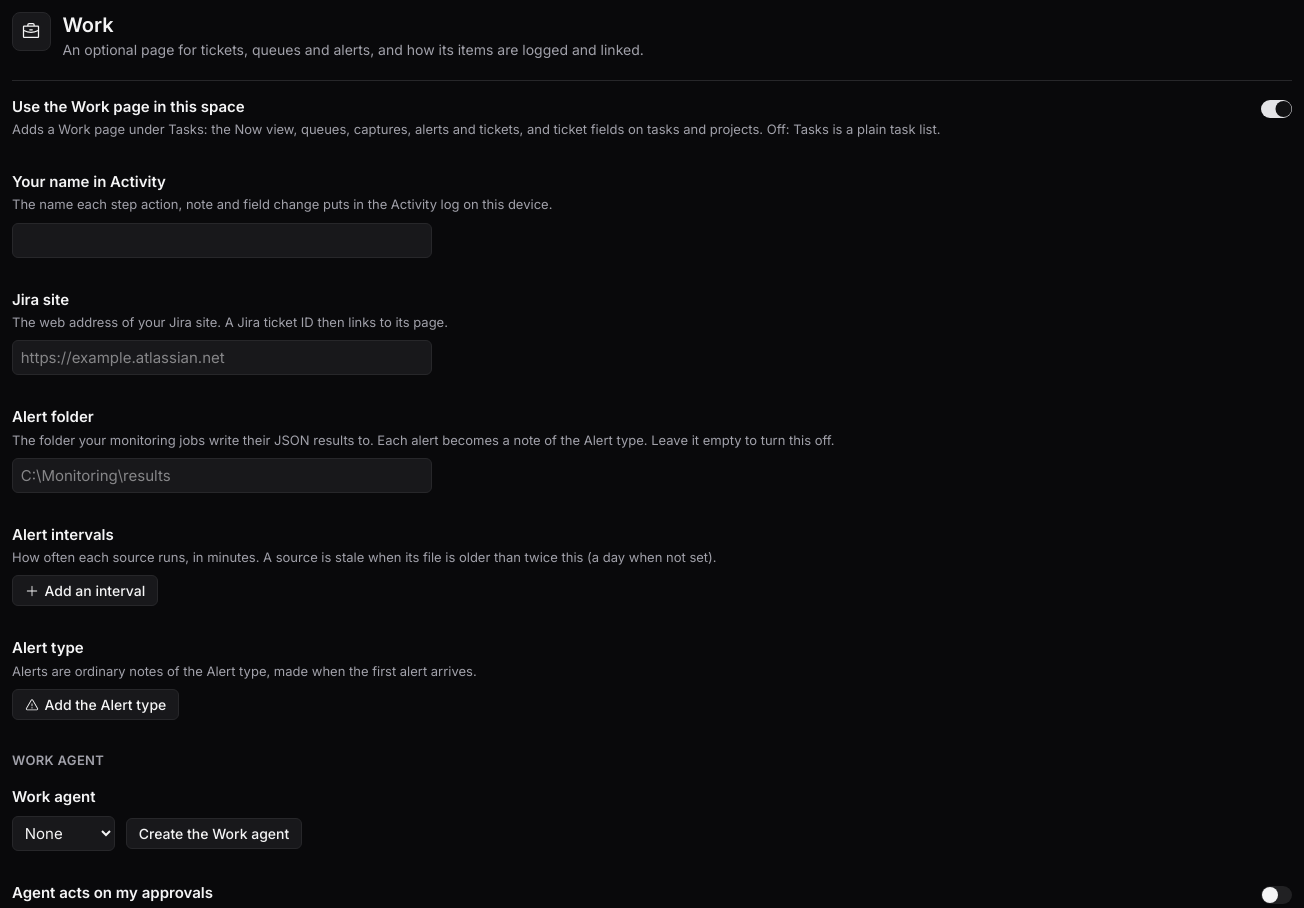
WorkSection alert rows › test Add the Alert type calls ensureAlertType and then shows The Alert type exists.
The image size is (1304, 908).
Click the button "Add the Alert type" at [95, 704], box [12,689,179,720]
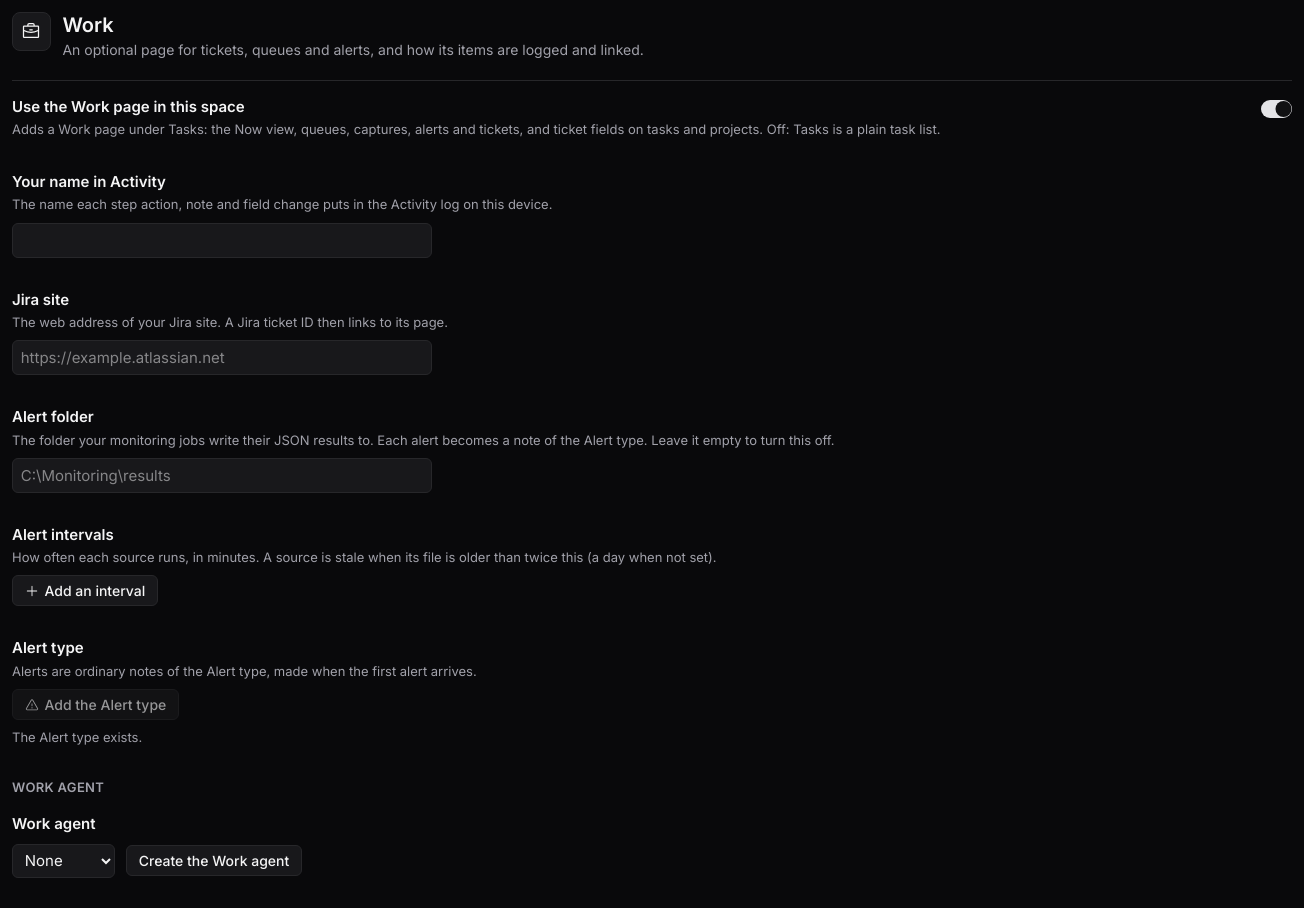
Result: the text "The Alert type exists." is shown at [12,729,142,745]
Result: the button "Add the Alert type" is disabled at [12,689,179,720]
